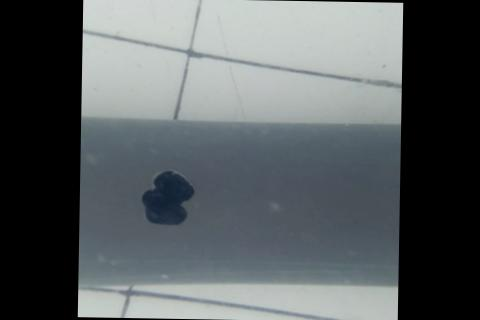kebocoran: (138, 168, 194, 225)
